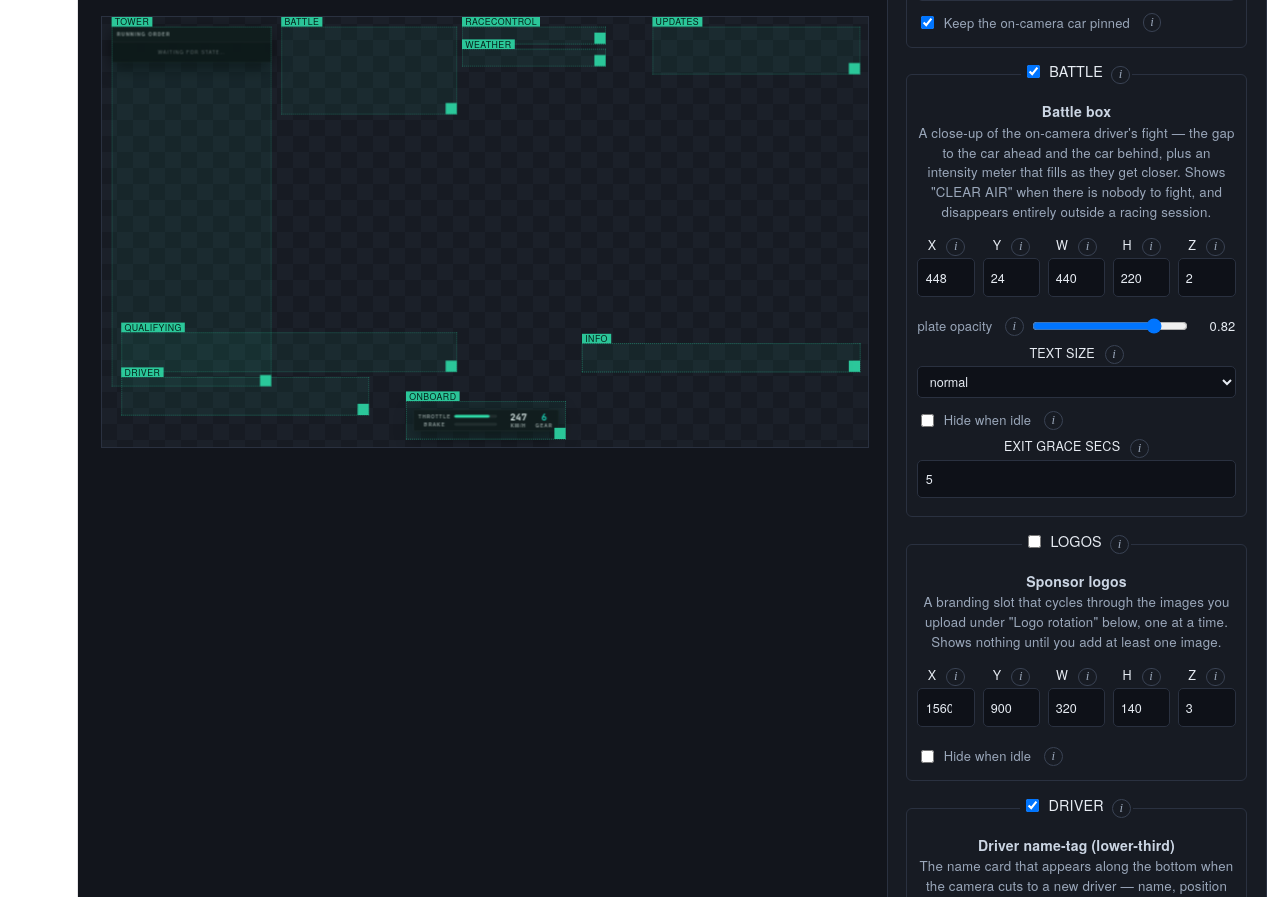
Scenario: config editor: battle exit grace › explains the control in the UI
(page scrolled)
Step 1. Click the button with test id "help-idle-grace-battle" → [1140, 448], box left=1130, top=439, right=1149, bottom=458
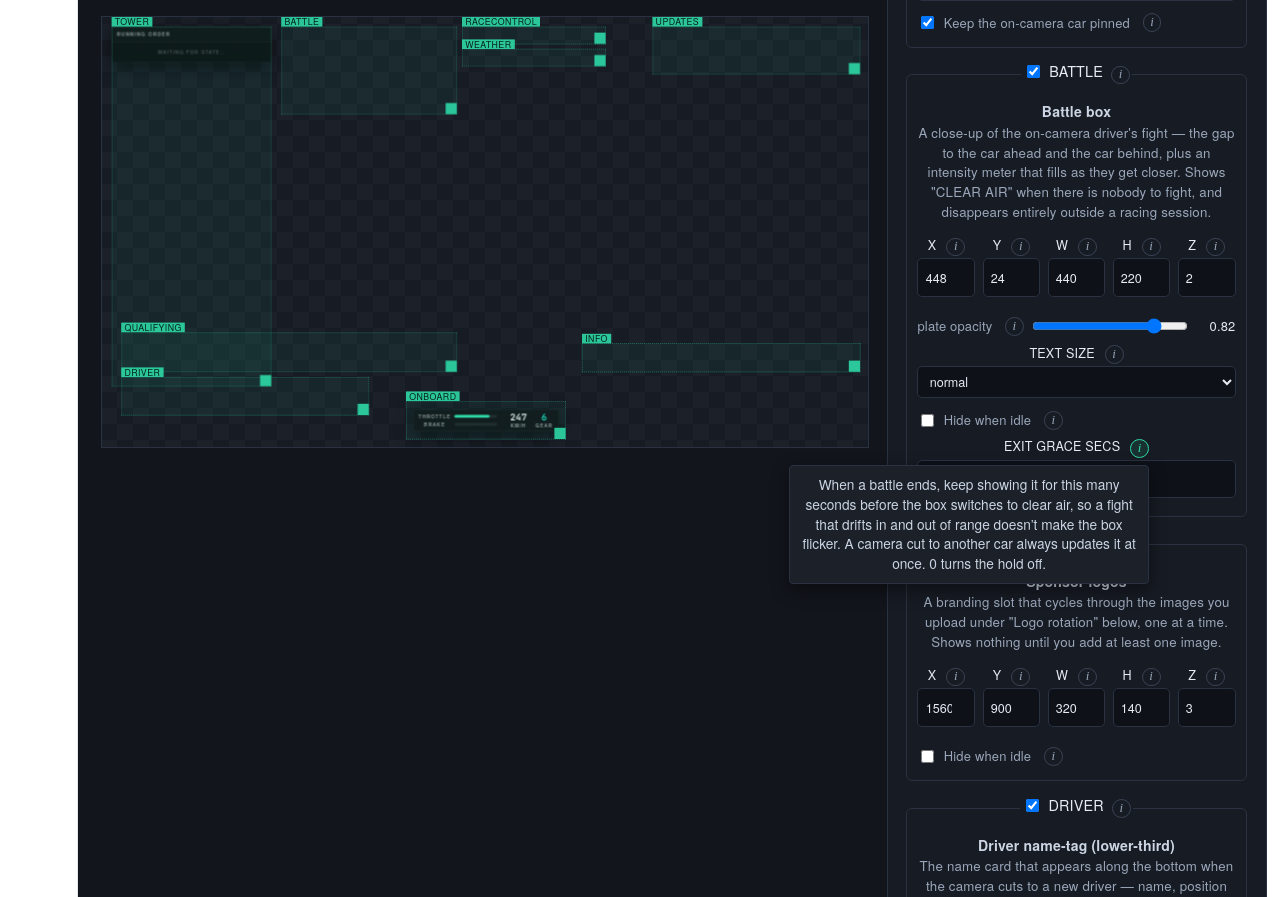
Now the tooltip with test id "help-idle-grace-battle-text" is shown, box left=789, top=465, right=1149, bottom=584
